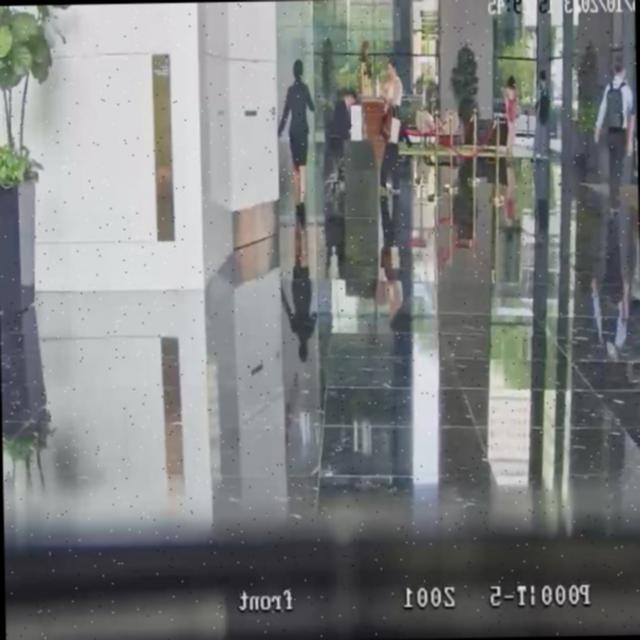person: (592, 56, 636, 214), (275, 58, 316, 208), (376, 57, 404, 192), (378, 57, 402, 140), (532, 70, 552, 160), (628, 56, 638, 216), (502, 75, 520, 154), (356, 38, 372, 98)
